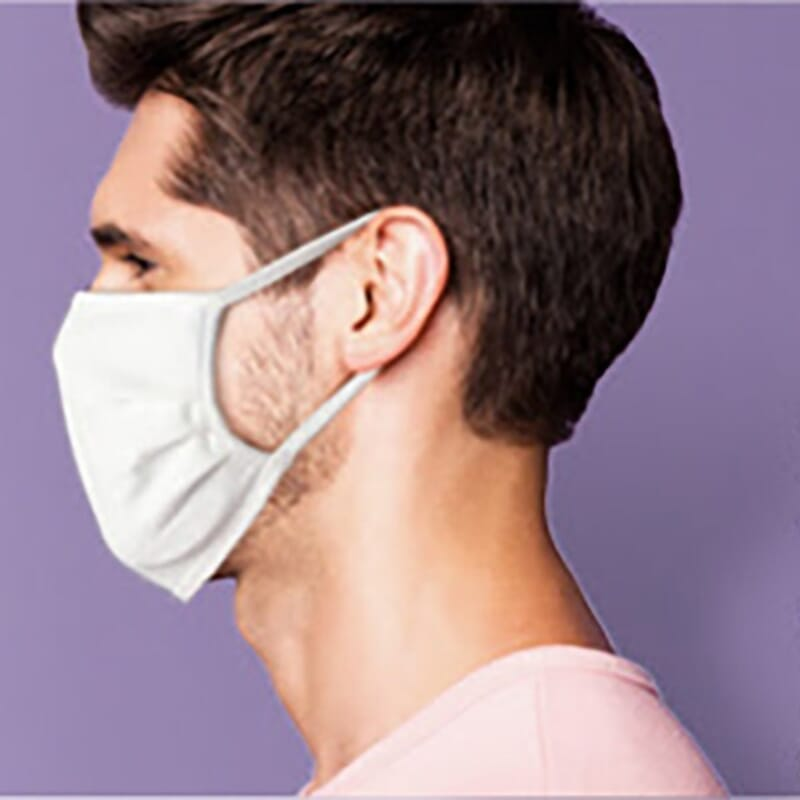with_mask: (86, 192, 360, 574)
